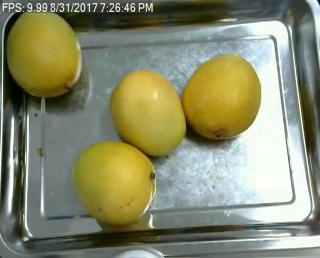Mango: (4, 7, 83, 97), (71, 143, 155, 224), (182, 54, 261, 140), (109, 71, 186, 154)
